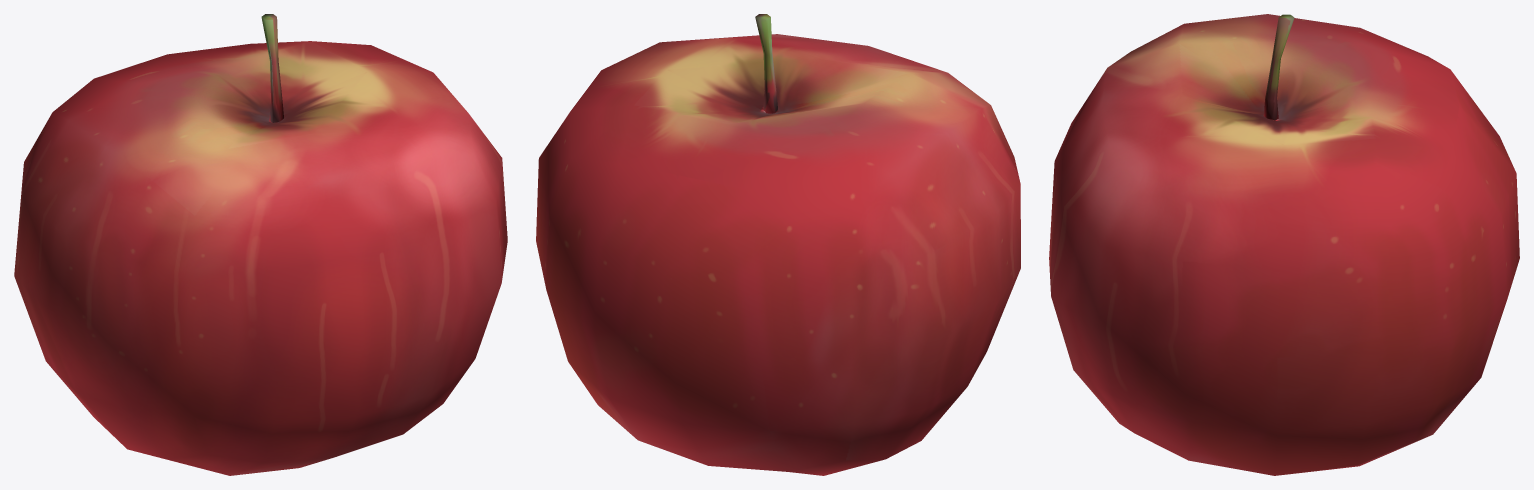
Rendered from apple.fbx.
3 views of the same model, side by side, from view 1: azimuth 30°, elevation 25°; view 2: azimuth 150°, elevation 25°; view 3: azimuth 270°, elevation 25° (orthographic). The views are drawn at different scales.
Visible parts, largest first — view 1: apple; view 2: apple; view 3: apple.
Part boxes in pixels (box(x1,y1,x2,y2)): apple: box(14, 14, 507, 475); apple: box(536, 14, 1020, 475); apple: box(1049, 14, 1519, 475).
Size of the model in its own units: 0.2502 by 0.2371 by 0.2331.
